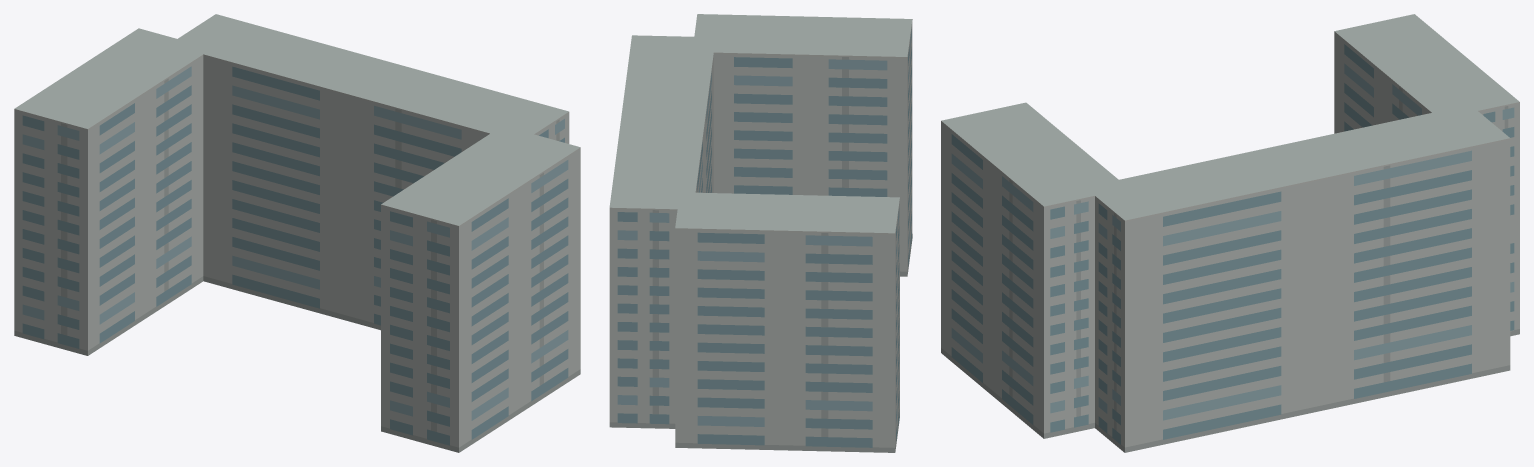
The model's file is residential-a91a1e9f-2f93-4bbc-afa1-8903c2f0b640.glb.
3 renders of one model, left to right at view 1: azimuth 30°, elevation 25°; view 2: azimuth 150°, elevation 25°; view 3: azimuth 270°, elevation 25°, orthographic. The views are drawn at different scales.
Parts seen in each view (by area): view 1: residential-a91a1e9f-2f93-4bbc-afa1-8903c2f0b640.tmp; view 2: residential-a91a1e9f-2f93-4bbc-afa1-8903c2f0b640.tmp; view 3: residential-a91a1e9f-2f93-4bbc-afa1-8903c2f0b640.tmp.
Boxes of the visible parts, x1,y1,x2,y2 form: residential-a91a1e9f-2f93-4bbc-afa1-8903c2f0b640.tmp: (14, 14, 580, 452); residential-a91a1e9f-2f93-4bbc-afa1-8903c2f0b640.tmp: (609, 14, 912, 452); residential-a91a1e9f-2f93-4bbc-afa1-8903c2f0b640.tmp: (941, 14, 1519, 452).
Bounding box in the file's own units: 76.3 × 40 × 90.34.
